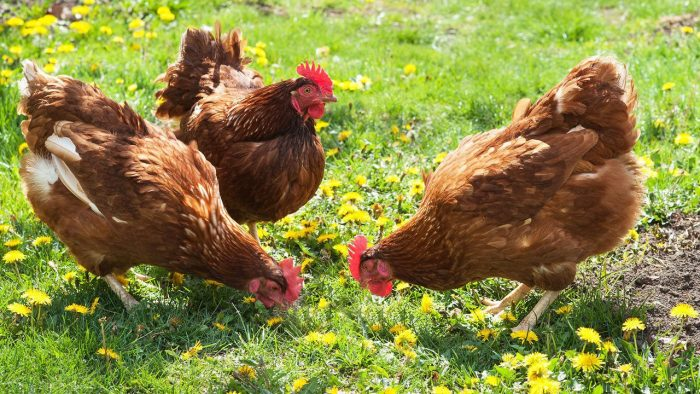chicken: (347, 50, 649, 344), (13, 57, 308, 329), (148, 17, 341, 240)
